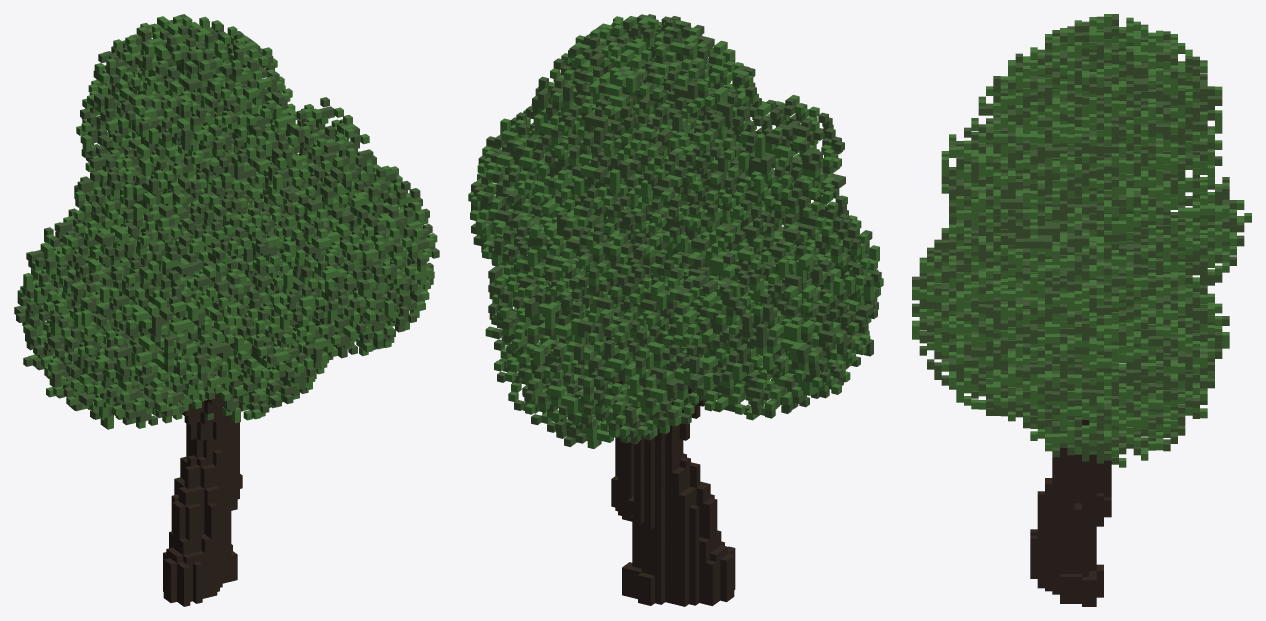
Rendered from Korean castle_tree_03.FBX.
The picture shows the model from 3 angles, left to right: view 1: azimuth 30°, elevation 25°; view 2: azimuth 150°, elevation 25°; view 3: azimuth 270°, elevation 25°; orthographic projection. The views are drawn at different scales.
Visible parts, largest first — view 1: Voxel_Korean_traditional castle-3; view 2: Voxel_Korean_traditional castle-3; view 3: Voxel_Korean_traditional castle-3.
Part boxes in pixels (left/top/right/bottom): Voxel_Korean_traditional castle-3: left=14, top=14, right=439, bottom=606; Voxel_Korean_traditional castle-3: left=468, top=14, right=883, bottom=606; Voxel_Korean_traditional castle-3: left=912, top=14, right=1251, bottom=606.
Bounding box in the file's own units: 118 × 168 × 92.05.
1 material, 1 textured.
